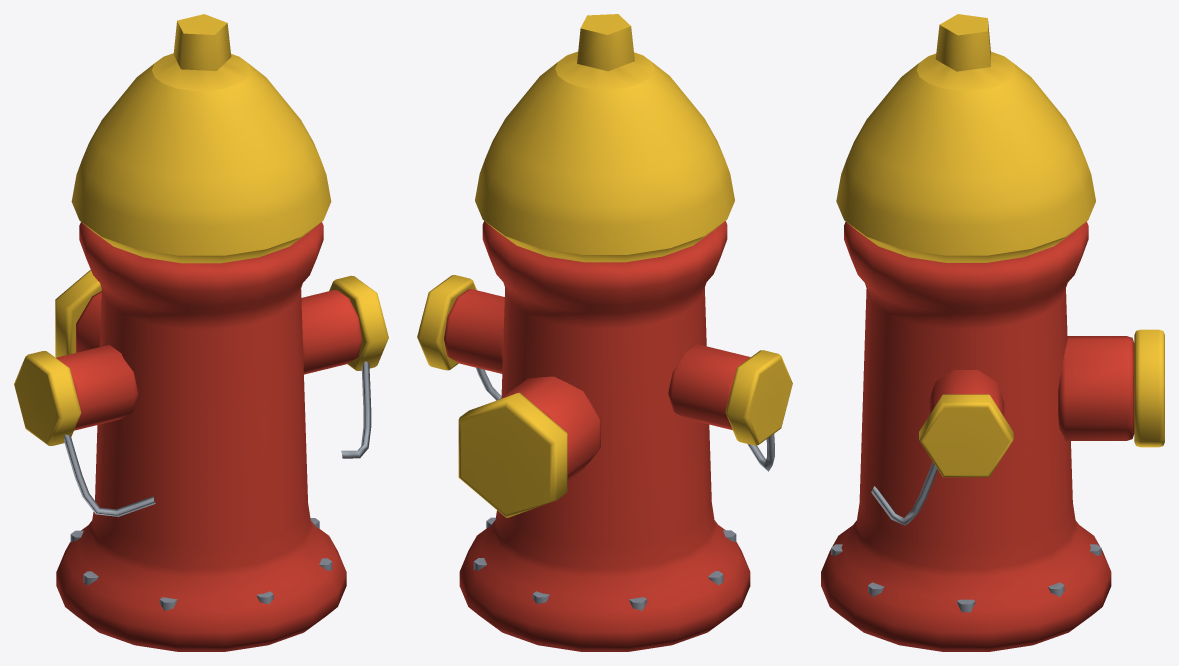
File: st_hydrant__239.glb
3 renders of one model, left to right at view 1: azimuth 30°, elevation 25°; view 2: azimuth 150°, elevation 25°; view 3: azimuth 270°, elevation 25°, orthographic.
Visible parts, largest first — view 1: merged_toon_D8402F, merged_toon_F2C230, merged_toon_A8B0BA; view 2: merged_toon_D8402F, merged_toon_F2C230, merged_toon_A8B0BA; view 3: merged_toon_D8402F, merged_toon_F2C230, merged_toon_A8B0BA.
Boxes of the visible parts, left/top/right/bottom form: merged_toon_D8402F: left=56, top=222, right=361, bottom=651; merged_toon_F2C230: left=14, top=14, right=388, bottom=445; merged_toon_A8B0BA: left=64, top=361, right=371, bottom=611; merged_toon_D8402F: left=444, top=221, right=750, bottom=651; merged_toon_F2C230: left=417, top=14, right=792, bottom=517; merged_toon_A8B0BA: left=473, top=367, right=774, bottom=610; merged_toon_D8402F: left=821, top=221, right=1134, bottom=651; merged_toon_F2C230: left=836, top=14, right=1164, bottom=477; merged_toon_A8B0BA: left=831, top=462, right=1101, bottom=612.
Bounding box in the file's own units: 0.5 × 0.825 × 0.45.
